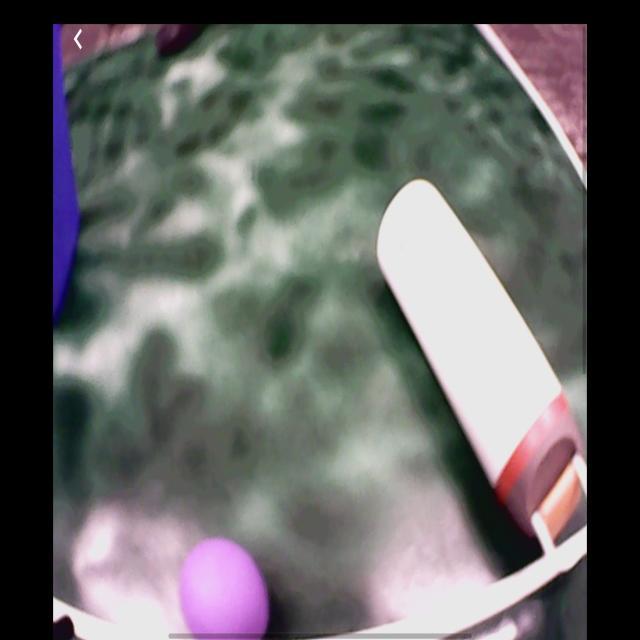ball: (179, 540, 271, 639)
